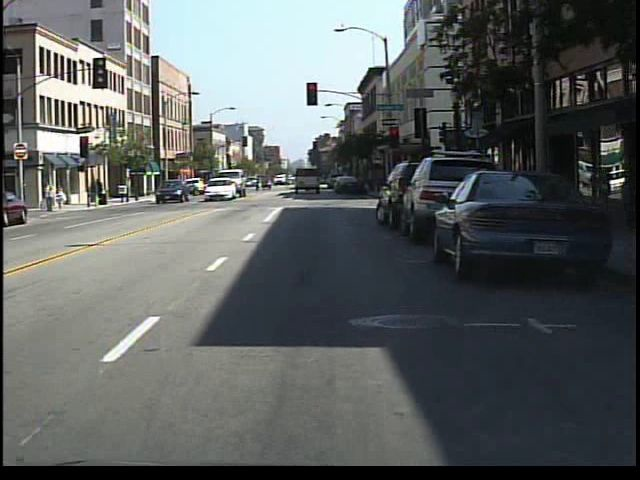person: (42, 179, 56, 216), (54, 182, 70, 211)
